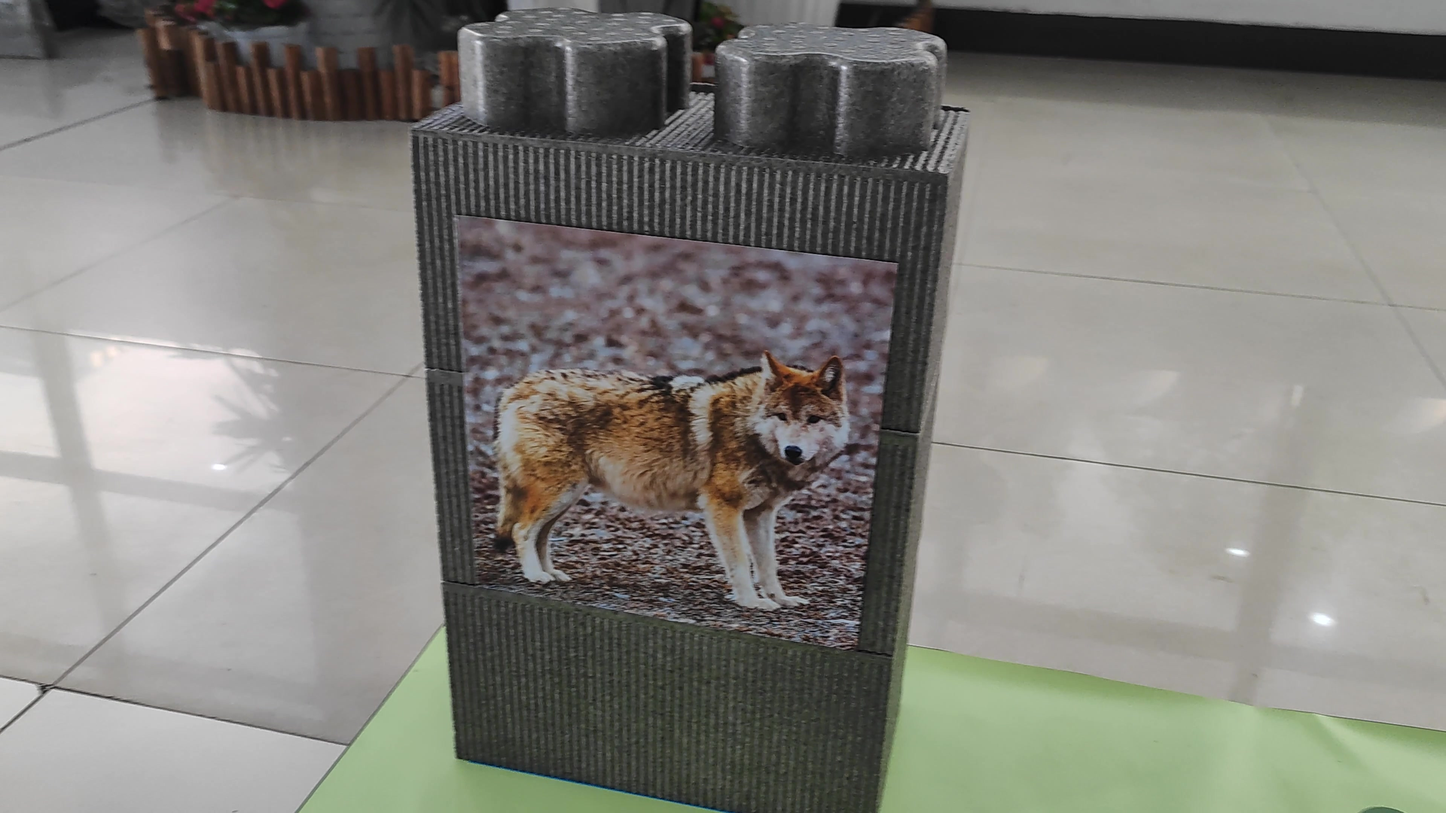wolf: (455, 213, 873, 638)
